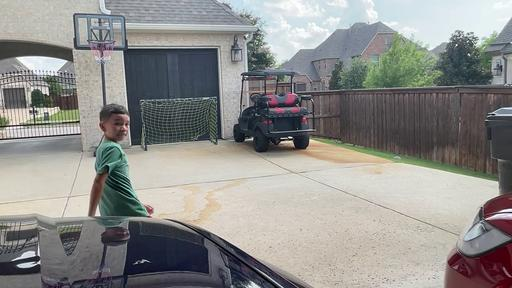human: (86, 104, 154, 218)
rim: (86, 38, 116, 62)
